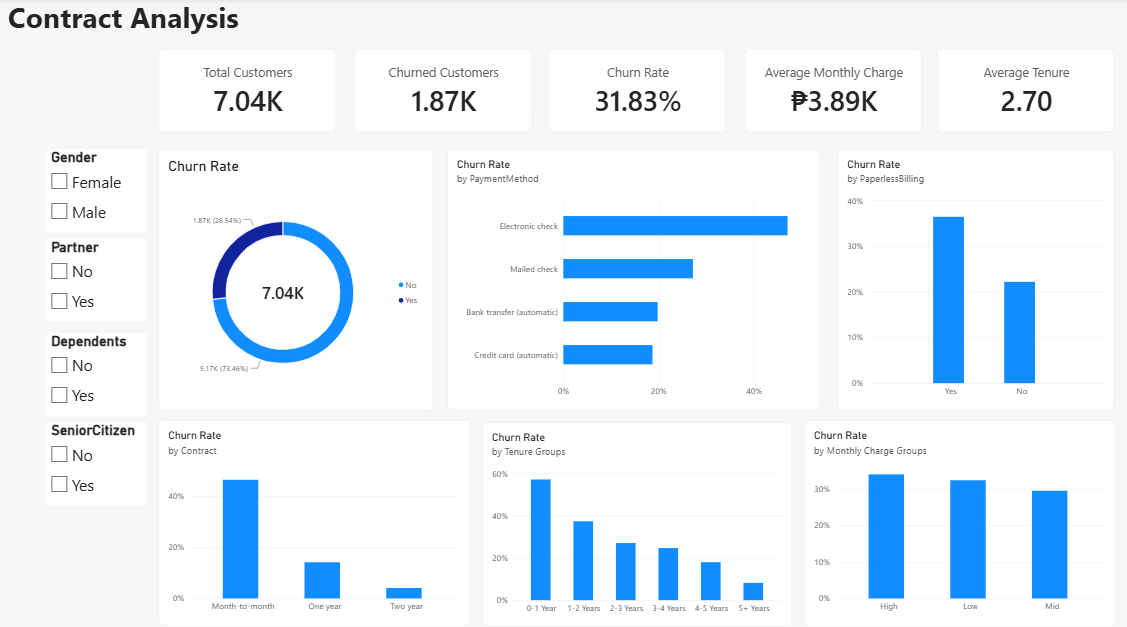

This screenshot's page, from the dashboard's own definition file:
{"tool":"powerbi","page":{"name":"Churn rate based on Contract","canvas":[1920,1080],"ordinal":0},"visuals":[{"type":"cardVisual","fields":{"Data":["Telco-Customer-Churn Data.Total Customers"]},"box":[280,88.9,301,140],"z":0},{"type":"cardVisual","fields":{"Data":["Telco-Customer-Churn Data.Churned Customers"]},"box":[610,88.9,300,140],"z":1000},{"type":"cardVisual","fields":{"Data":["Telco-Customer-Churn Data.Churn Rate"]},"box":[940,88.9,300,140],"z":2000},{"type":"cardVisual","fields":{"Data":["Telco-Customer-Churn Data.Average Monthly Charge"]},"box":[1270,88.9,300,140],"z":3000},{"type":"cardVisual","fields":{"Data":["Telco-Customer-Churn Data.Average Tenure"]},"box":[1597.4,88.9,300,140],"z":4000},{"type":"donutChart","title":"Churn Rate","fields":{"Category":["Telco-Customer-Churn Data.Churn"],"Y":["Telco-Customer-Churn Data.Total Customers"]},"box":[280,257.8,465.3,441.6],"z":5000},{"type":"clusteredBarChart","fields":{"Category":["Telco-Customer-Churn Data.PaymentMethod"],"Y":["Telco-Customer-Churn Data.Churn Rate"]},"box":[767.6,257.8,631.2,441.6],"z":6000},{"type":"clusteredColumnChart","fields":{"Category":["Telco-Customer-Churn Data.Contract"],"Y":["Telco-Customer-Churn Data.Churn Rate"]},"box":[280,717.2,527.5,346.7],"z":7000},{"type":"clusteredColumnChart","fields":{"Category":["Telco-Customer-Churn Data.Monthly Charge Groups"],"Y":["Telco-Customer-Churn Data.Churn Rate"]},"box":[1372.1,717.2,527.5,346.7],"z":8000},{"type":"clusteredColumnChart","fields":{"Category":["Telco-Customer-Churn Data.Tenure Groups"],"Y":["Telco-Customer-Churn Data.Churn Rate"]},"box":[826.8,720.2,524.6,346.7],"z":9000},{"type":"slicer","fields":{"Values":["Telco-Customer-Churn Data.Dependents"]},"box":[90,569,170,140],"z":10000},{"type":"slicer","fields":{"Values":["Telco-Customer-Churn Data.gender"]},"box":[90,257.8,170,140],"z":11000},{"type":"slicer","fields":{"Values":["Telco-Customer-Churn Data.Partner"]},"box":[90,409,170,140],"z":12000},{"type":"clusteredColumnChart","fields":{"Category":["Telco-Customer-Churn Data.PaperlessBilling"],"Y":["Telco-Customer-Churn Data.Churn Rate"]},"box":[1428.5,257.8,468.2,441.6],"z":13000},{"type":"slicer","fields":{"Values":["Telco-Customer-Churn Data.SeniorCitizen"]},"box":[90,720.2,170,140],"z":14000},{"type":"textbox","box":[23.7,0,518.6,88.9],"z":15000}]}

Visuals, with their boxes in screenshot pixels (x1, y1, x2, y2), scaled from the page's 1920x1080 canvas onto the 1127x627 screenshot:
cardVisual - Telco-Customer-Churn Data.Total Customers: [x1=164, y1=52, x2=341, y2=133]
cardVisual - Telco-Customer-Churn Data.Churned Customers: [x1=358, y1=52, x2=534, y2=133]
cardVisual - Telco-Customer-Churn Data.Churn Rate: [x1=552, y1=52, x2=728, y2=133]
cardVisual - Telco-Customer-Churn Data.Average Monthly Charge: [x1=745, y1=52, x2=922, y2=133]
cardVisual - Telco-Customer-Churn Data.Average Tenure: [x1=938, y1=52, x2=1114, y2=133]
"Churn Rate" donutChart: [x1=164, y1=150, x2=437, y2=406]
clusteredBarChart - Telco-Customer-Churn Data.PaymentMethod x Telco-Customer-Churn Data.Churn Rate: [x1=451, y1=150, x2=821, y2=406]
clusteredColumnChart - Telco-Customer-Churn Data.Contract x Telco-Customer-Churn Data.Churn Rate: [x1=164, y1=416, x2=474, y2=618]
clusteredColumnChart - Telco-Customer-Churn Data.Monthly Charge Groups x Telco-Customer-Churn Data.Churn Rate: [x1=805, y1=416, x2=1115, y2=618]
clusteredColumnChart - Telco-Customer-Churn Data.Tenure Groups x Telco-Customer-Churn Data.Churn Rate: [x1=485, y1=418, x2=793, y2=619]
slicer - Telco-Customer-Churn Data.Dependents: [x1=53, y1=330, x2=153, y2=412]
slicer - Telco-Customer-Churn Data.gender: [x1=53, y1=150, x2=153, y2=231]
slicer - Telco-Customer-Churn Data.Partner: [x1=53, y1=237, x2=153, y2=319]
clusteredColumnChart - Telco-Customer-Churn Data.PaperlessBilling x Telco-Customer-Churn Data.Churn Rate: [x1=838, y1=150, x2=1113, y2=406]
slicer - Telco-Customer-Churn Data.SeniorCitizen: [x1=53, y1=418, x2=153, y2=499]
textbox: [x1=14, y1=0, x2=318, y2=52]
